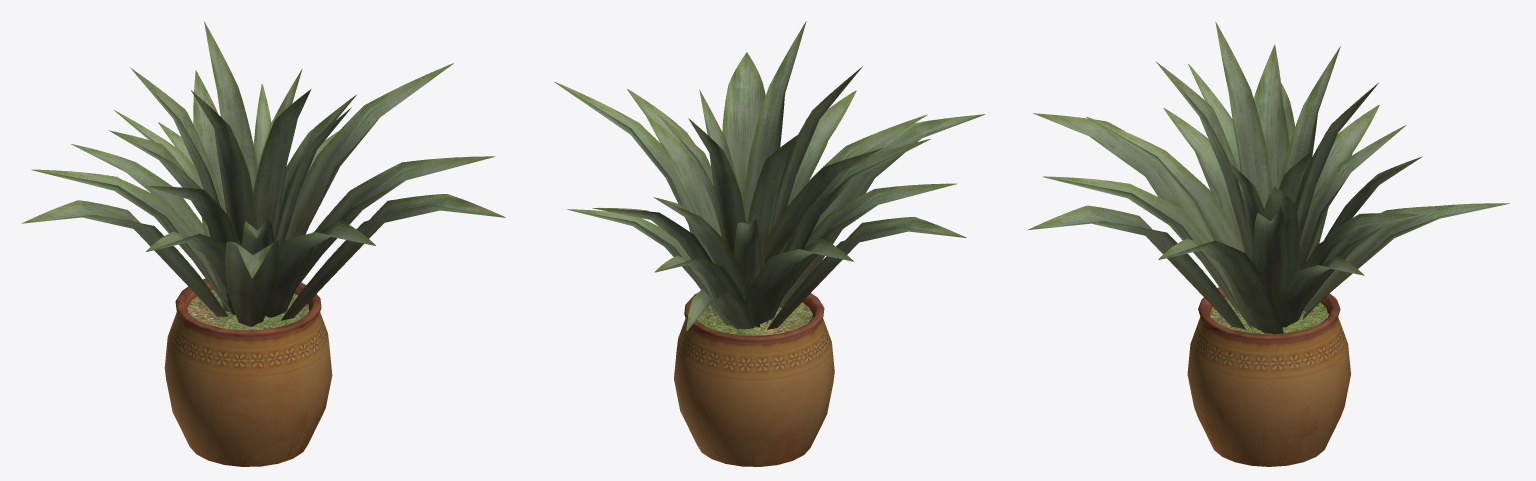
The model's file is MB_Pot_Flower_05.fbx.
The picture shows the model from 3 angles, left to right: view 1: azimuth 30°, elevation 25°; view 2: azimuth 150°, elevation 25°; view 3: azimuth 270°, elevation 25°; orthographic projection. The views are drawn at different scales.
Parts seen in each view (by area): view 1: MB_Pot_Flower_05_LOD0; view 2: MB_Pot_Flower_05_LOD0; view 3: MB_Pot_Flower_05_LOD0.
Part boxes in pixels (<box>): MB_Pot_Flower_05_LOD0: <box>21,21,505,466</box>; MB_Pot_Flower_05_LOD0: <box>554,21,984,466</box>; MB_Pot_Flower_05_LOD0: <box>1027,21,1509,466</box>.
Size of what is drawn, in the model's own units: 174 by 148 by 173.
